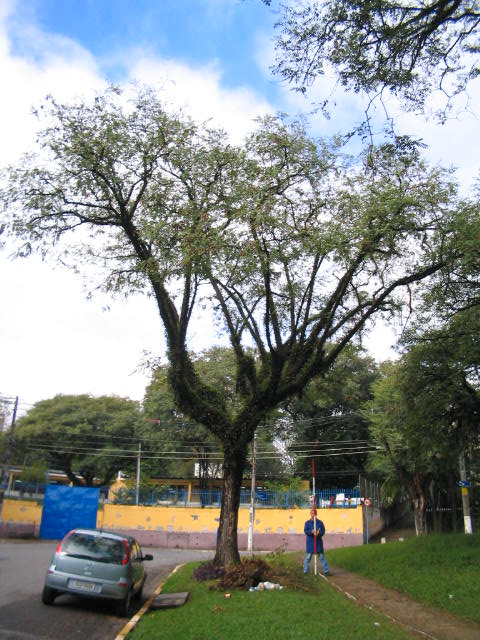crown: (3, 79, 468, 349)
stem: (203, 435, 261, 569)
stick: (306, 456, 323, 574)
tree: (1, 78, 469, 570)
